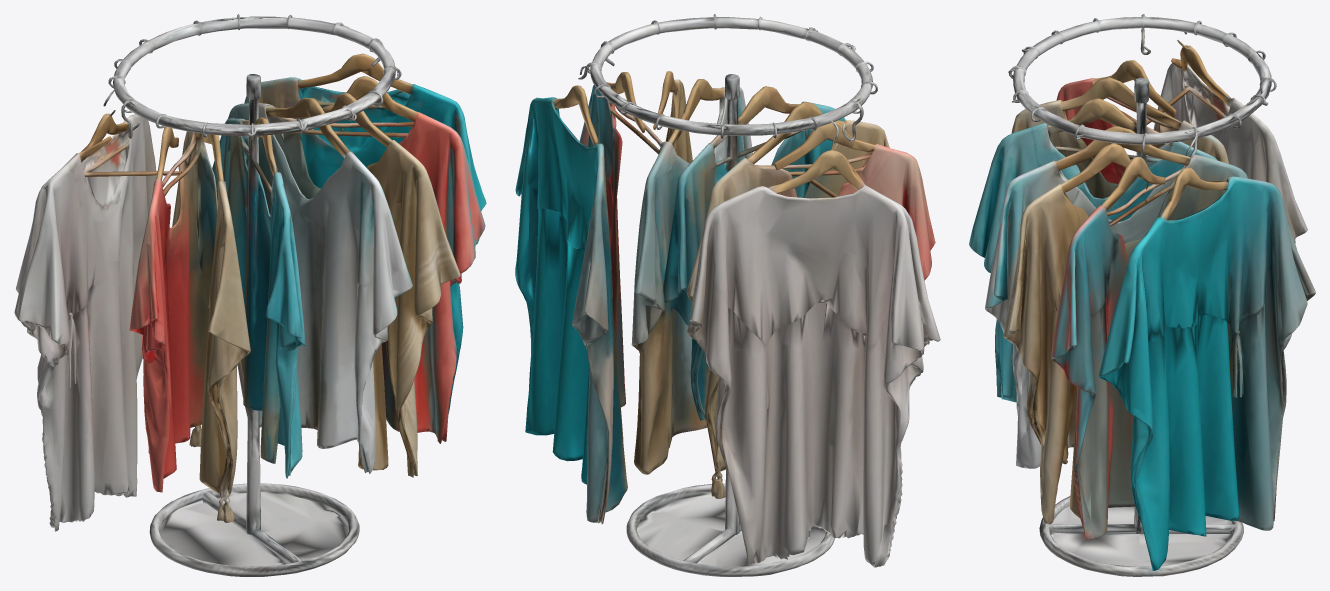
The model's file is CCG_KaftanRack_web.glb.
3 renders of one model, left to right at view 1: azimuth 30°, elevation 25°; view 2: azimuth 150°, elevation 25°; view 3: azimuth 270°, elevation 25°, orthographic.
Parts seen in each view (by area): view 1: tripo_node_46df1e47-5c03-49d9-b90c-62bcb46ba125; view 2: tripo_node_46df1e47-5c03-49d9-b90c-62bcb46ba125; view 3: tripo_node_46df1e47-5c03-49d9-b90c-62bcb46ba125.
Boxes of the visible parts, x1,y1,x2,y2 form: tripo_node_46df1e47-5c03-49d9-b90c-62bcb46ba125: (14, 14, 486, 576); tripo_node_46df1e47-5c03-49d9-b90c-62bcb46ba125: (515, 14, 940, 576); tripo_node_46df1e47-5c03-49d9-b90c-62bcb46ba125: (969, 14, 1315, 576).
Bounding box in the file's own units: 0.9808 × 0.9805 × 0.6672.
1 material, 1 textured.
